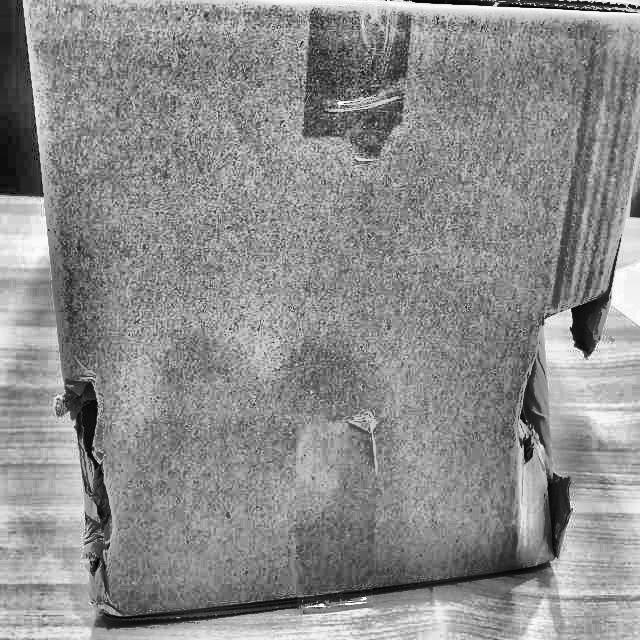box: (16, 0, 638, 622)
hole: (496, 250, 612, 555), (65, 375, 117, 601)
